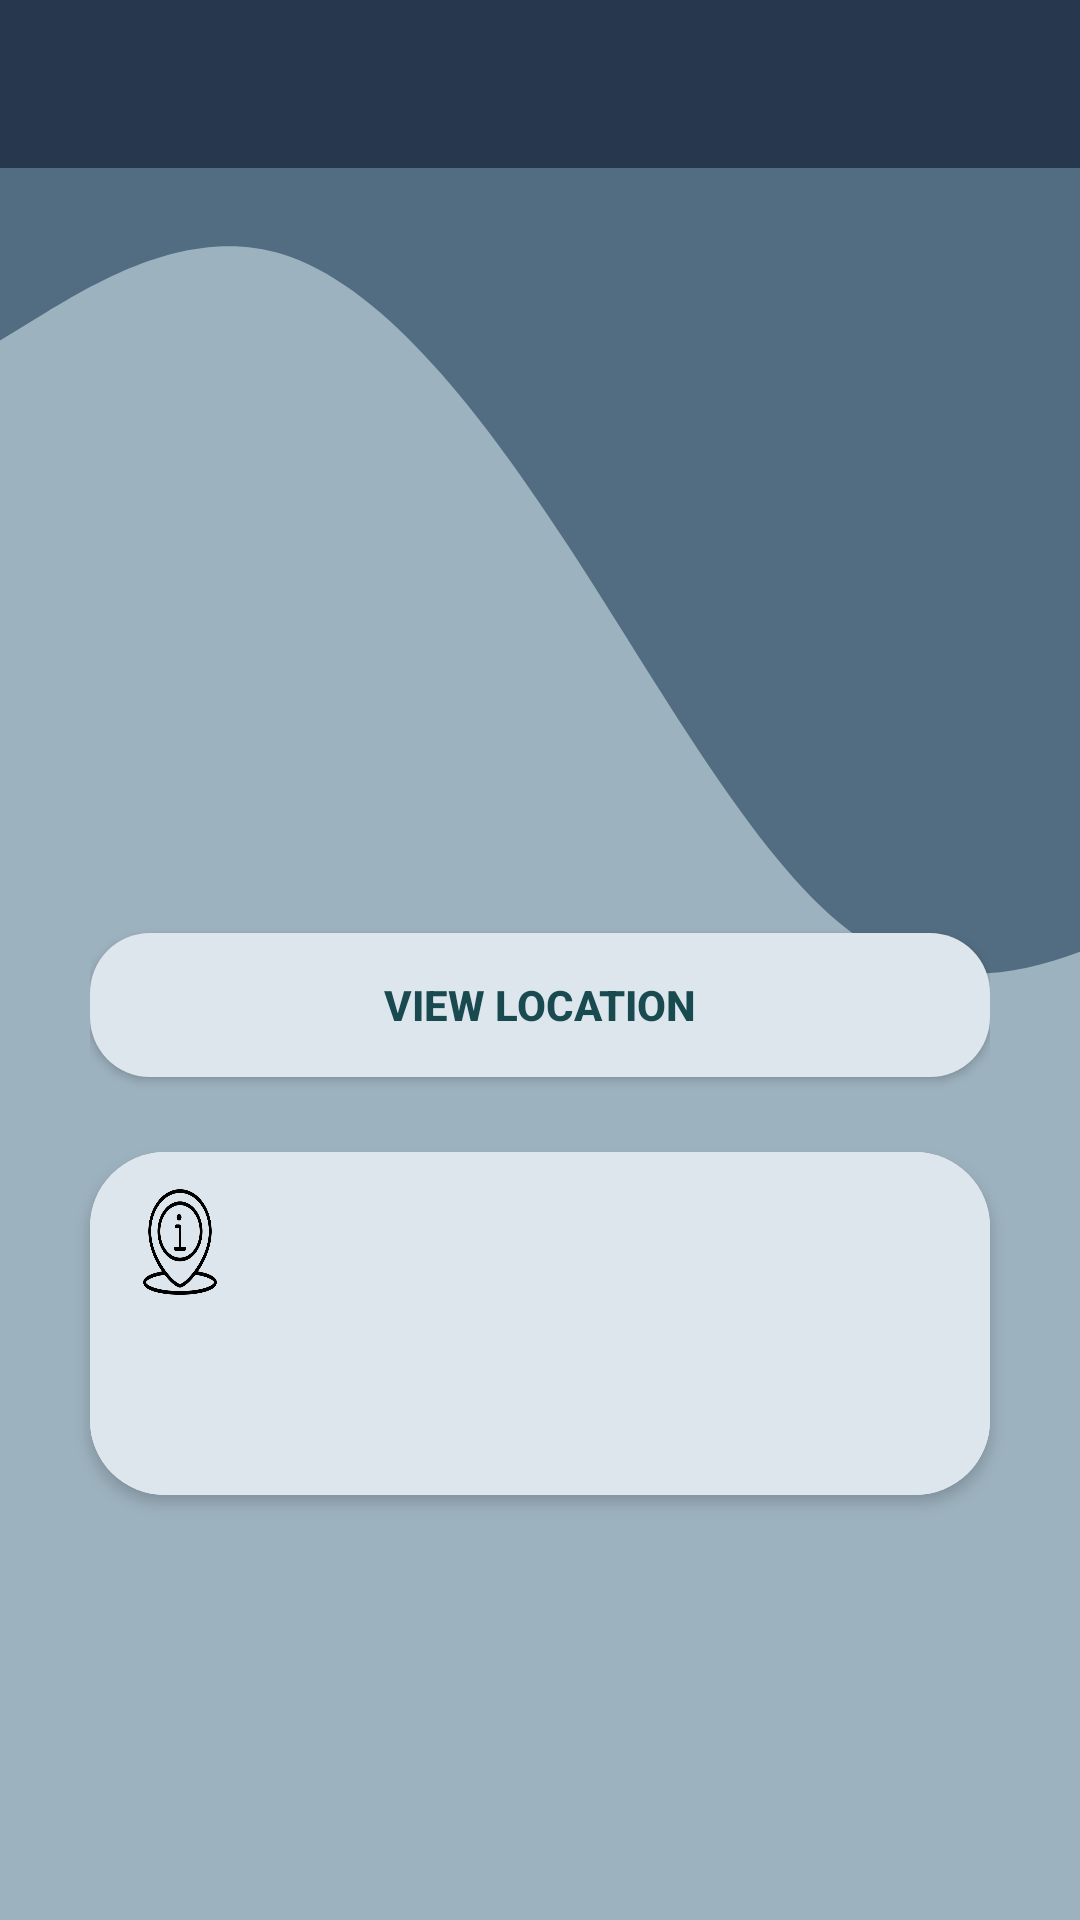

Named icons in this screenshot (1080x1920) and their centers, (x=x, y=y):
information: (x=180, y=1242)
